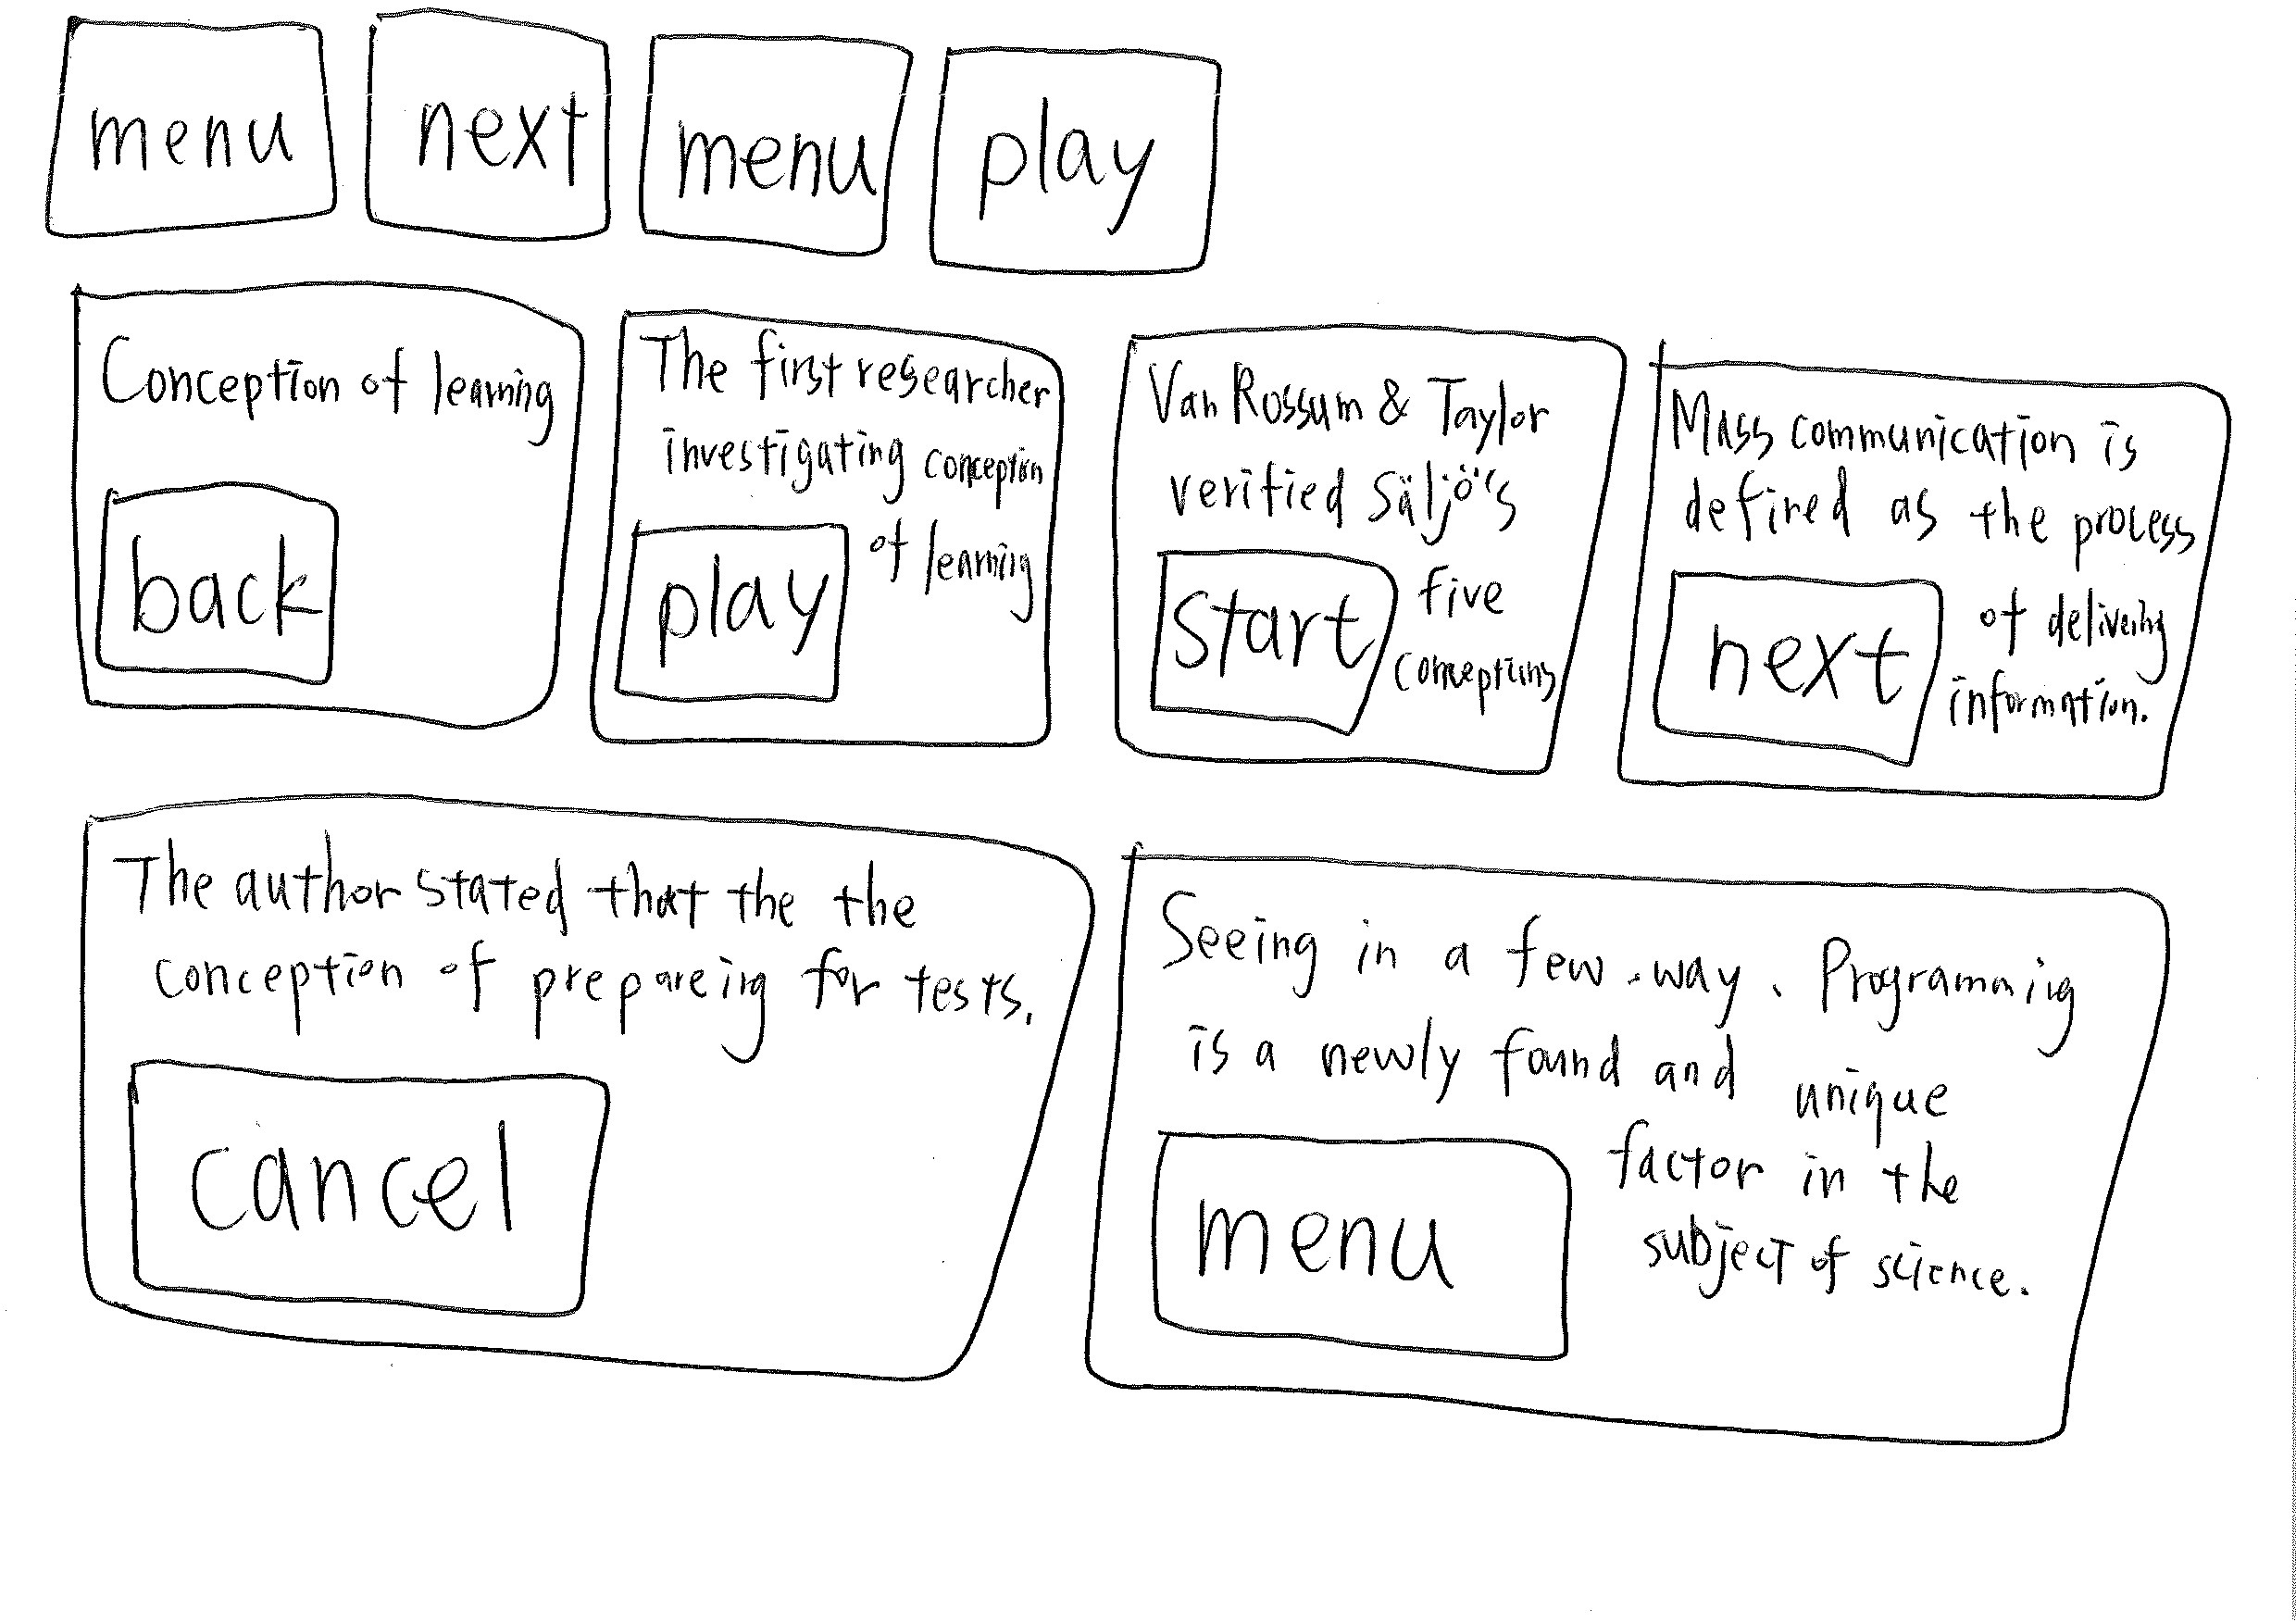back: (88, 453, 360, 688)
cancel: (93, 1044, 657, 1341)
double: (1058, 806, 2205, 1485), (46, 765, 1111, 1455)
menu: (1127, 1113, 1601, 1383), (635, 11, 932, 297), (28, 7, 348, 260)
next: (1629, 546, 1961, 778), (344, 9, 632, 263)
play: (922, 26, 1246, 305), (597, 504, 862, 716)
quadruple: (1604, 325, 2296, 829), (47, 263, 602, 762), (1083, 309, 1638, 797), (581, 279, 1102, 792)
row: (16, 802, 2296, 1497), (16, 281, 2296, 818), (16, 7, 2296, 286)
small-title: (1150, 890, 2094, 1037), (116, 857, 925, 955), (83, 300, 511, 455), (649, 341, 1044, 493), (1676, 386, 2157, 504), (1160, 362, 1568, 462)
start: (1125, 521, 1425, 739)
text: (119, 918, 1065, 1029), (1625, 1095, 1991, 1329), (1188, 1013, 2005, 1109), (1964, 509, 2189, 744), (1682, 477, 2208, 537), (1164, 453, 1534, 520), (1438, 532, 1545, 702)
